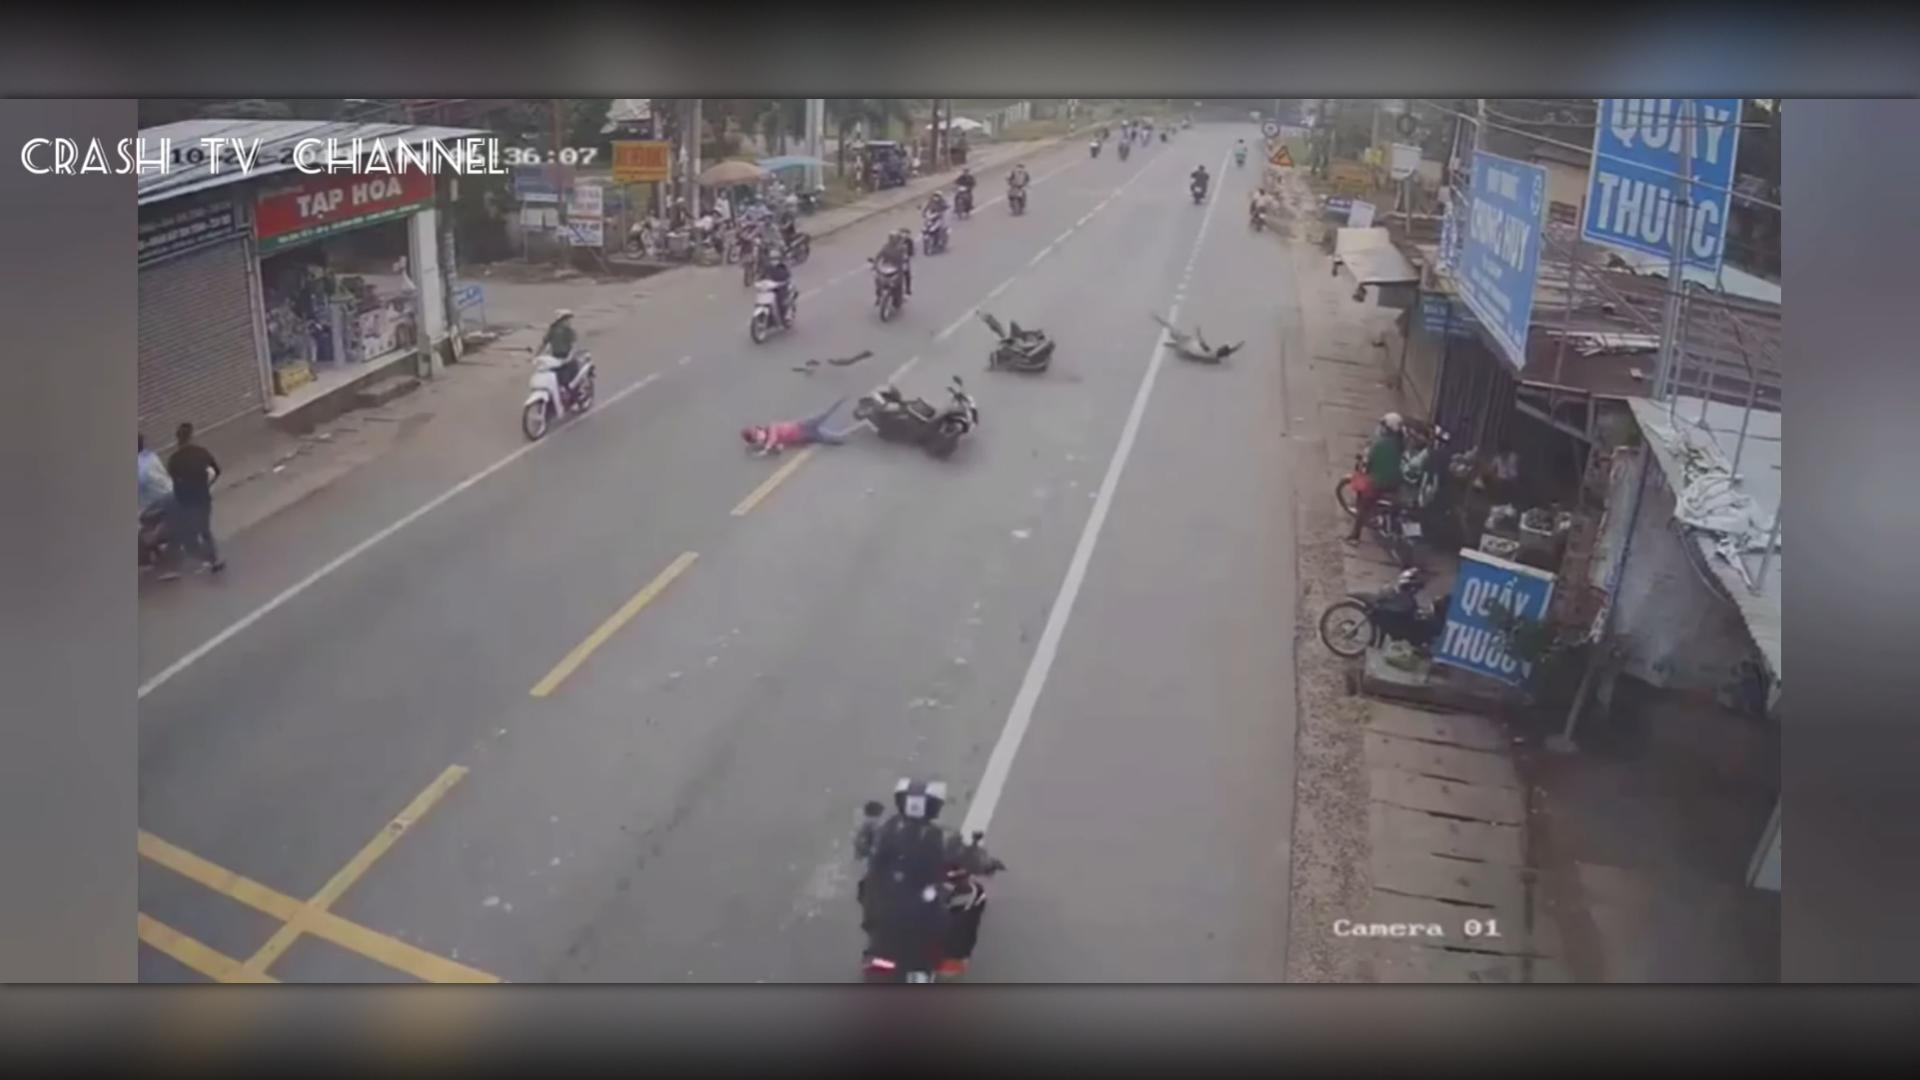accident: (791, 305, 1059, 476), (829, 343, 1004, 460), (978, 311, 1055, 376)
